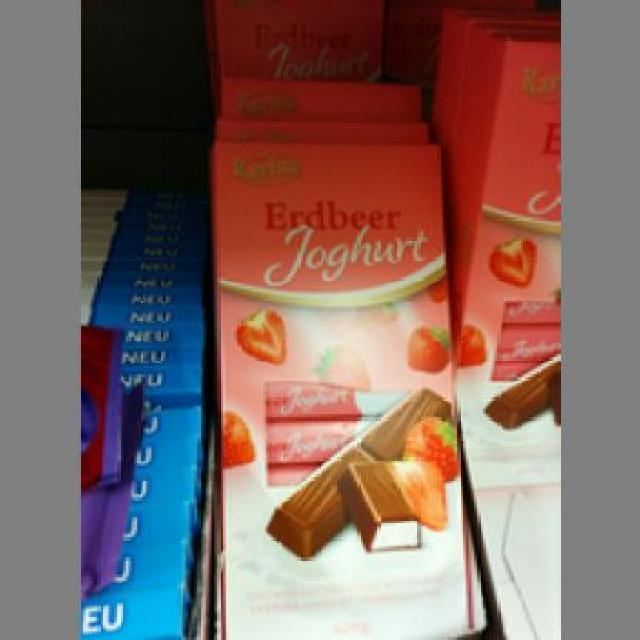Chocolate: (206, 135, 483, 634), (440, 31, 557, 492)
